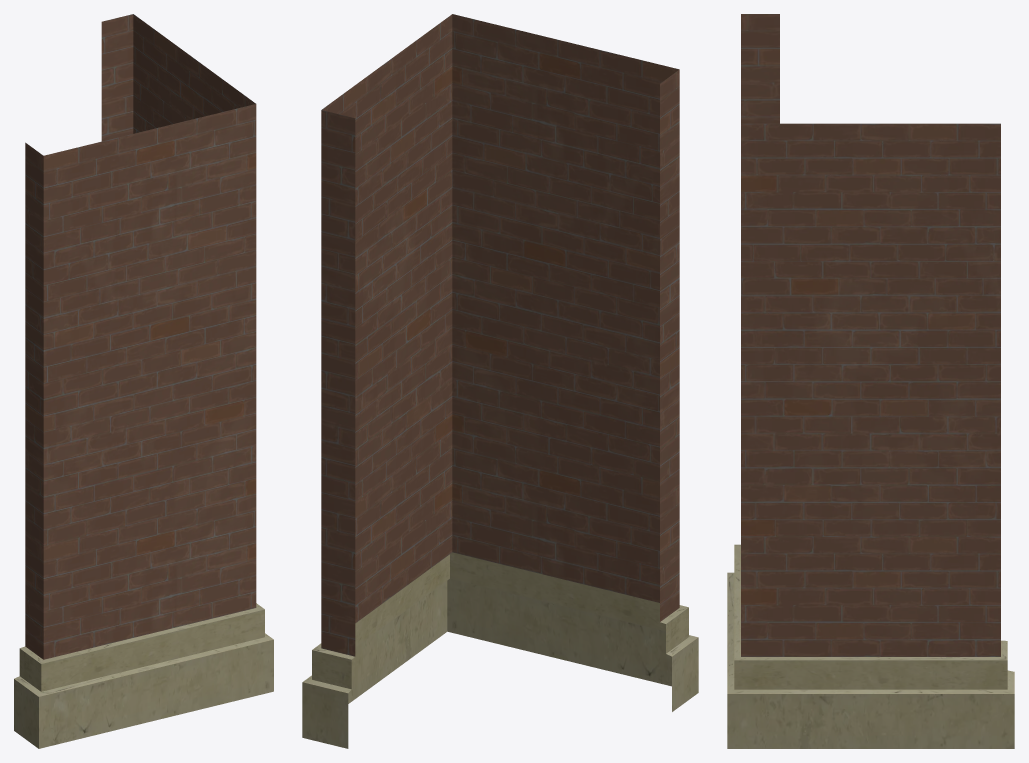
Rendered from Brick_CornerColumn_Bottom.gltf.
3 views of the same model, side by side, from view 1: azimuth 30°, elevation 25°; view 2: azimuth 150°, elevation 25°; view 3: azimuth 270°, elevation 25° (orthographic). The views are drawn at different scales.
Visible parts, largest first — view 1: Brick_CornerColumn_Bottom; view 2: Brick_CornerColumn_Bottom; view 3: Brick_CornerColumn_Bottom.
Part boxes in pixels (bbox=[...]): Brick_CornerColumn_Bottom: bbox=[14, 14, 273, 748]; Brick_CornerColumn_Bottom: bbox=[302, 14, 698, 748]; Brick_CornerColumn_Bottom: bbox=[727, 14, 1014, 748].
Size of the model in its own units: 1.26 by 3 by 1.26.
Materials: 2 (2 with a texture image).
